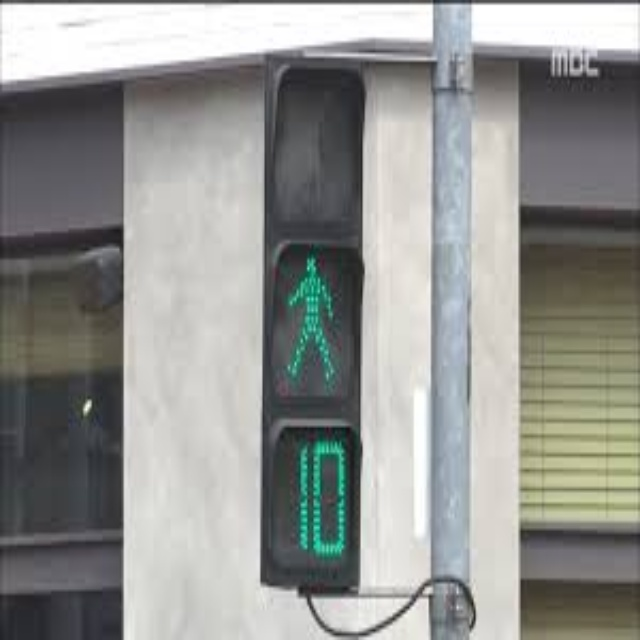green_light: (283, 255, 342, 391), (294, 438, 347, 559)
